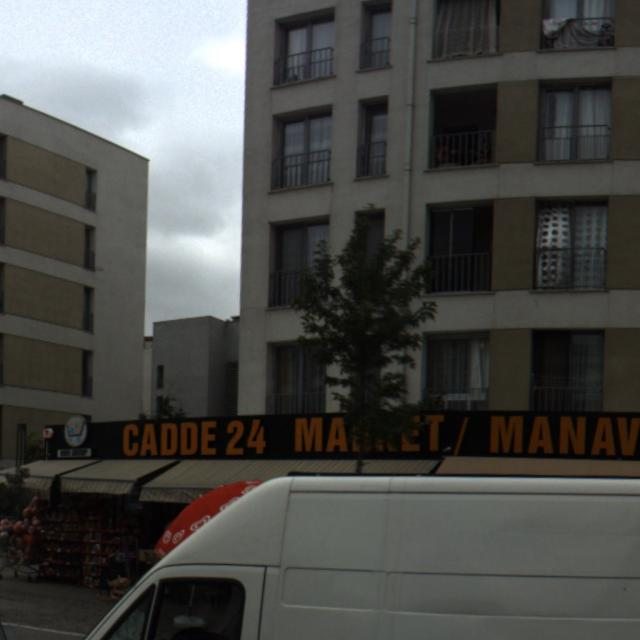SignStore: (44, 410, 640, 461)
